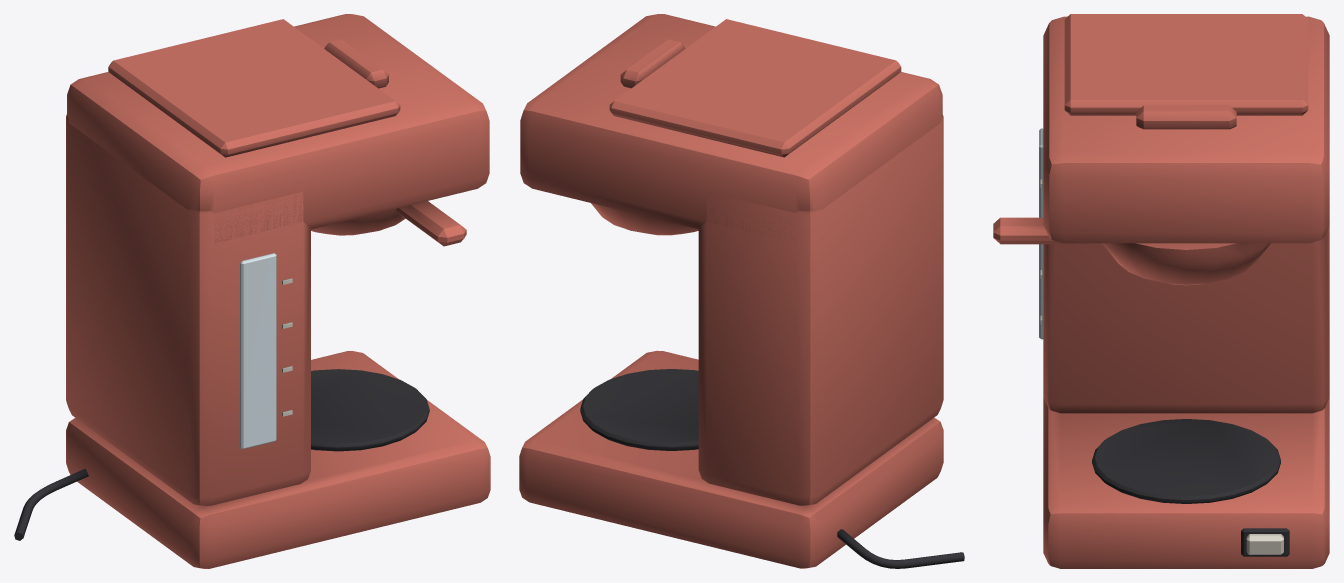
File: coffee_maker.glb
The picture shows the model from 3 angles, left to right: view 1: azimuth 30°, elevation 25°; view 2: azimuth 150°, elevation 25°; view 3: azimuth 270°, elevation 25°; orthographic projection. The views are drawn at different scales.
Visible parts, largest first — view 1: PART; view 2: PART; view 3: PART.
Part boxes in pixels (left/top/right/bottom): PART: left=14, top=14, right=490, bottom=568; PART: left=519, top=14, right=964, bottom=568; PART: left=993, top=14, right=1329, bottom=568.
Size of the model in its own units: 0.3415 by 0.332 by 0.235.
